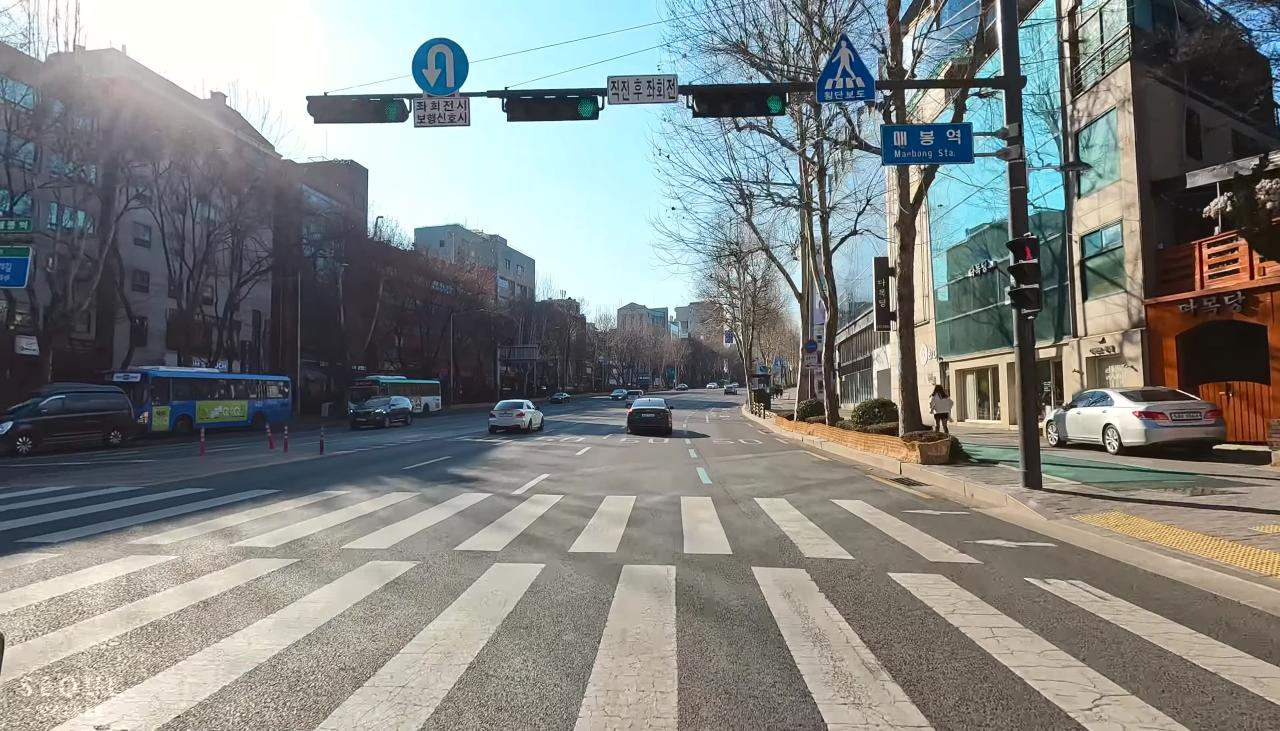Green Light: (574, 96, 600, 118), (380, 98, 403, 122), (765, 93, 785, 115)
